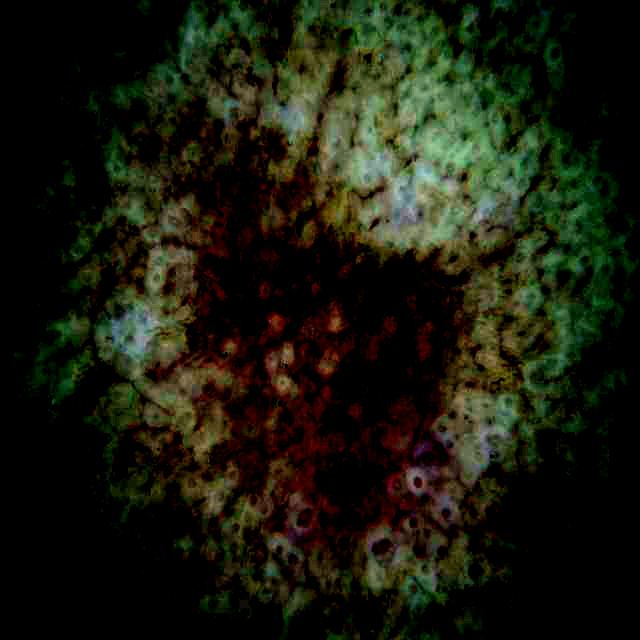AKIEC: (249, 236, 448, 520)
